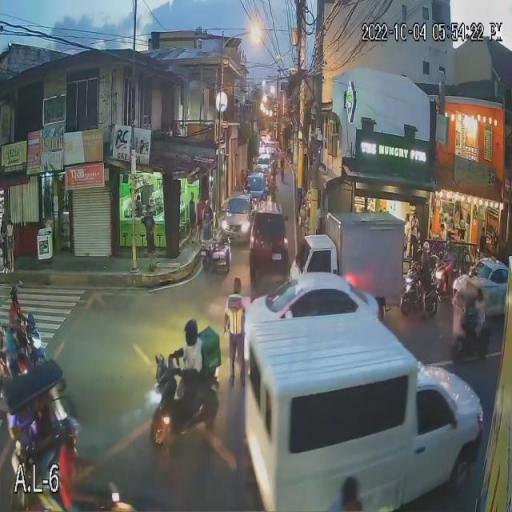helmet: (184, 318, 198, 340), (421, 240, 431, 250)
motorcycle: (146, 350, 220, 452), (0, 311, 50, 380), (399, 261, 439, 318), (200, 228, 232, 273), (431, 256, 459, 306)
rider: (166, 318, 204, 418), (4, 289, 34, 355), (412, 241, 438, 295), (434, 240, 454, 282)
